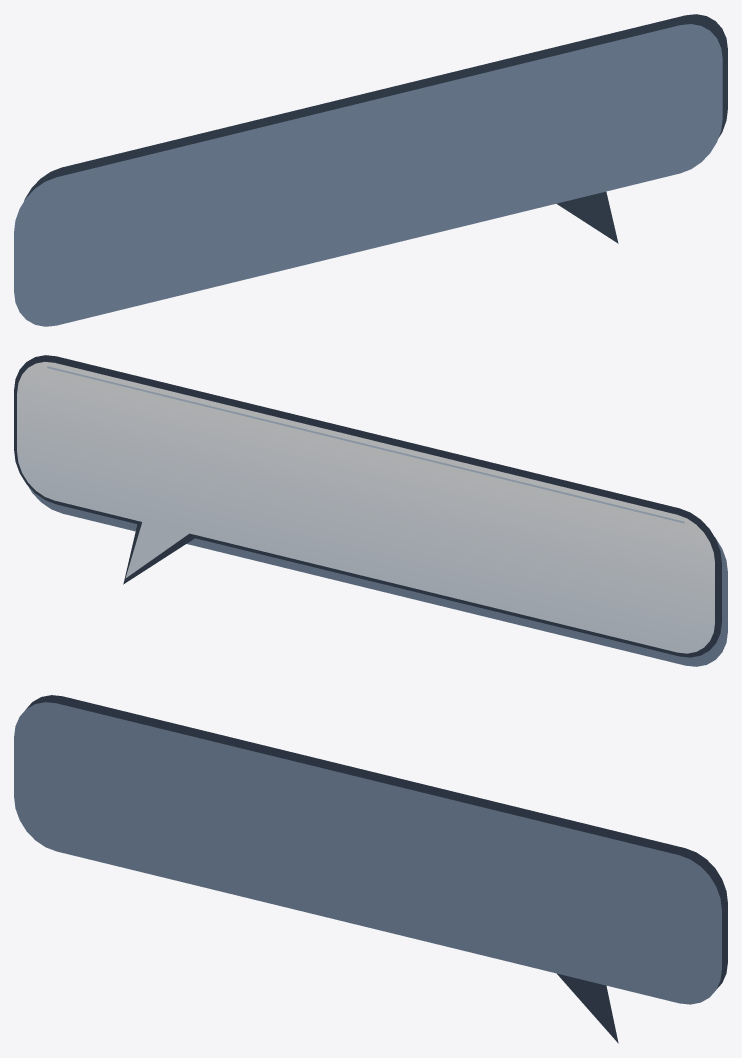
The model's file is ui_bubble.glb.
3 renders of one model, top to bottom at view 1: azimuth 30°, elevation 25°; view 2: azimuth 150°, elevation 25°; view 3: azimuth 330°, elevation 25°, orthographic.
Parts seen in each view (by area): view 1: ui_bubble; view 2: ui_bubble; view 3: ui_bubble.
Boxes of the visible parts, left/top/right/bottom form: ui_bubble: left=14, top=14, right=727, bottom=326; ui_bubble: left=14, top=355, right=727, bottom=666; ui_bubble: left=14, top=695, right=727, bottom=1043.
Size of the model in its own units: 1.01 by 0.2862 by 0.006.
